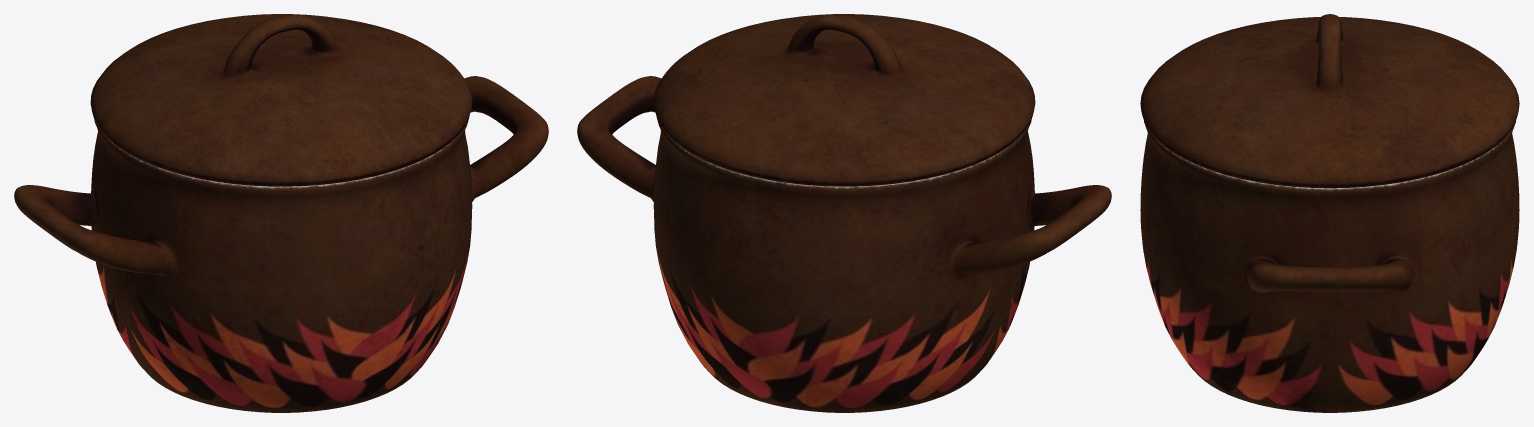
3 views of the same model, side by side, from view 1: azimuth 30°, elevation 25°; view 2: azimuth 150°, elevation 25°; view 3: azimuth 270°, elevation 25° (orthographic).
Visible parts, largest first — view 1: pot_enamel_01_base, pot_enamel_01_lid; view 2: pot_enamel_01_base, pot_enamel_01_lid; view 3: pot_enamel_01_base, pot_enamel_01_lid.
Boxes of the visible parts, left/top/right/bottom form: pot_enamel_01_base: left=14, top=76, right=548, bottom=412; pot_enamel_01_lid: left=90, top=14, right=472, bottom=186; pot_enamel_01_base: left=577, top=76, right=1111, bottom=412; pot_enamel_01_lid: left=653, top=14, right=1035, bottom=186; pot_enamel_01_base: left=1140, top=121, right=1519, bottom=412; pot_enamel_01_lid: left=1140, top=14, right=1519, bottom=188.
Size of the model in its own units: 0.2629 by 0.1783 by 0.1805.
Materials: 1 (1 with a texture image).
